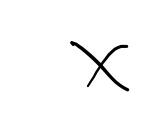mult: (70, 41, 130, 92)
